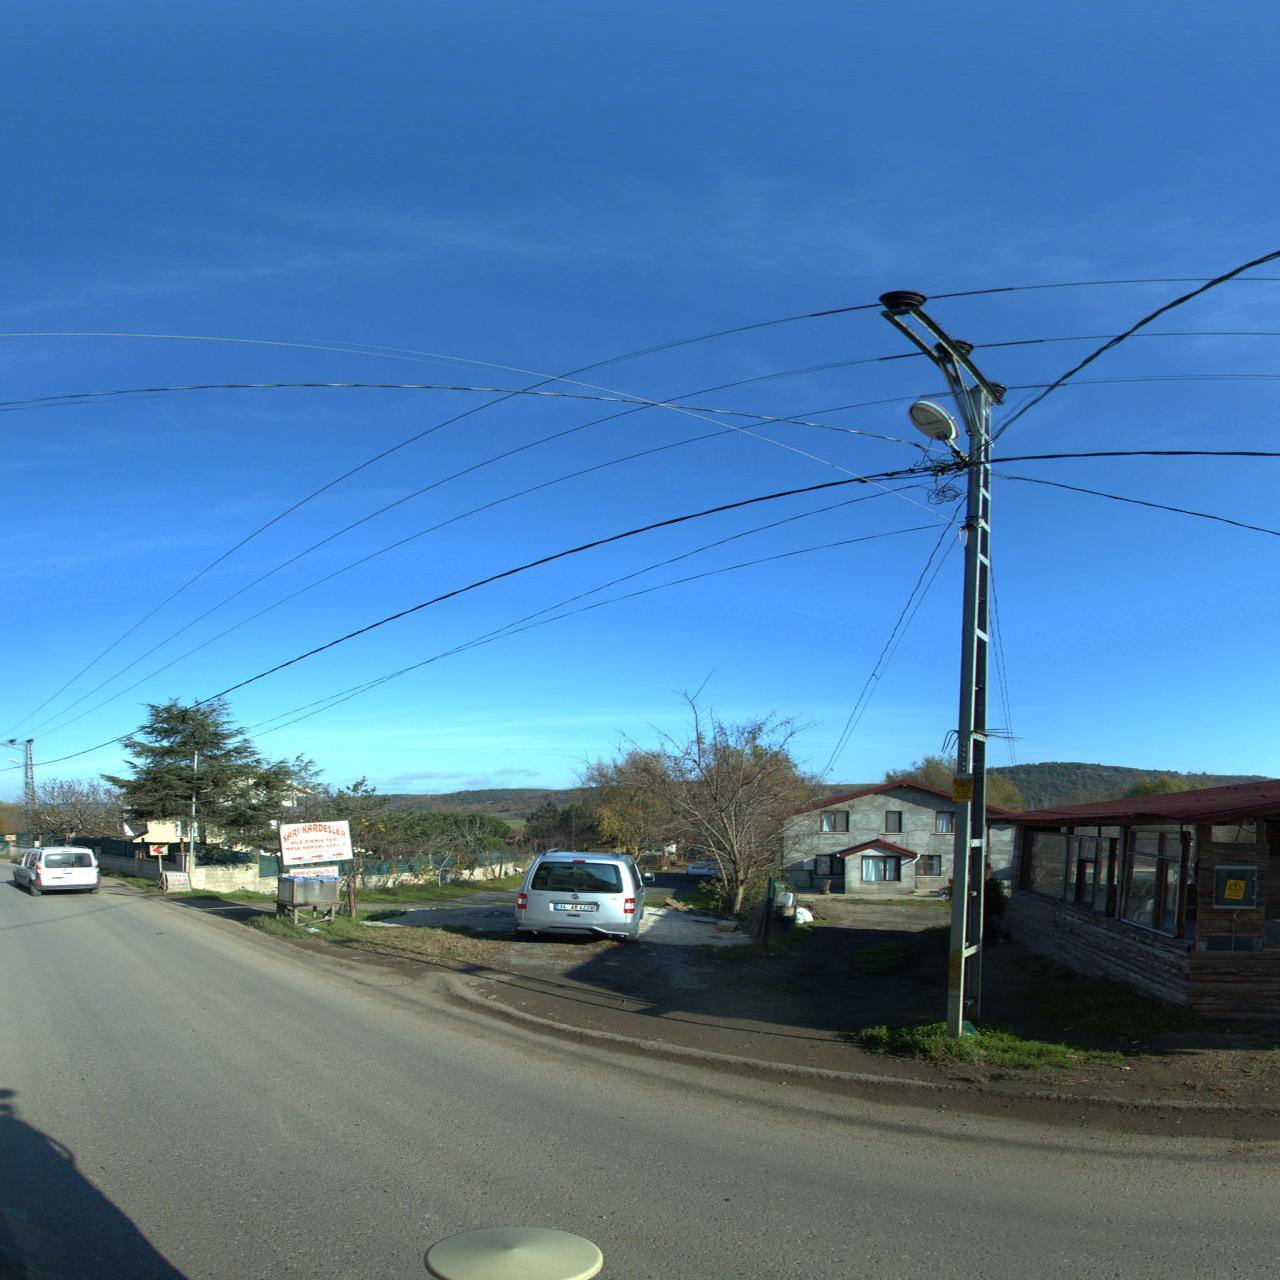Utility Pole Information Plate: (949, 779, 973, 802)
